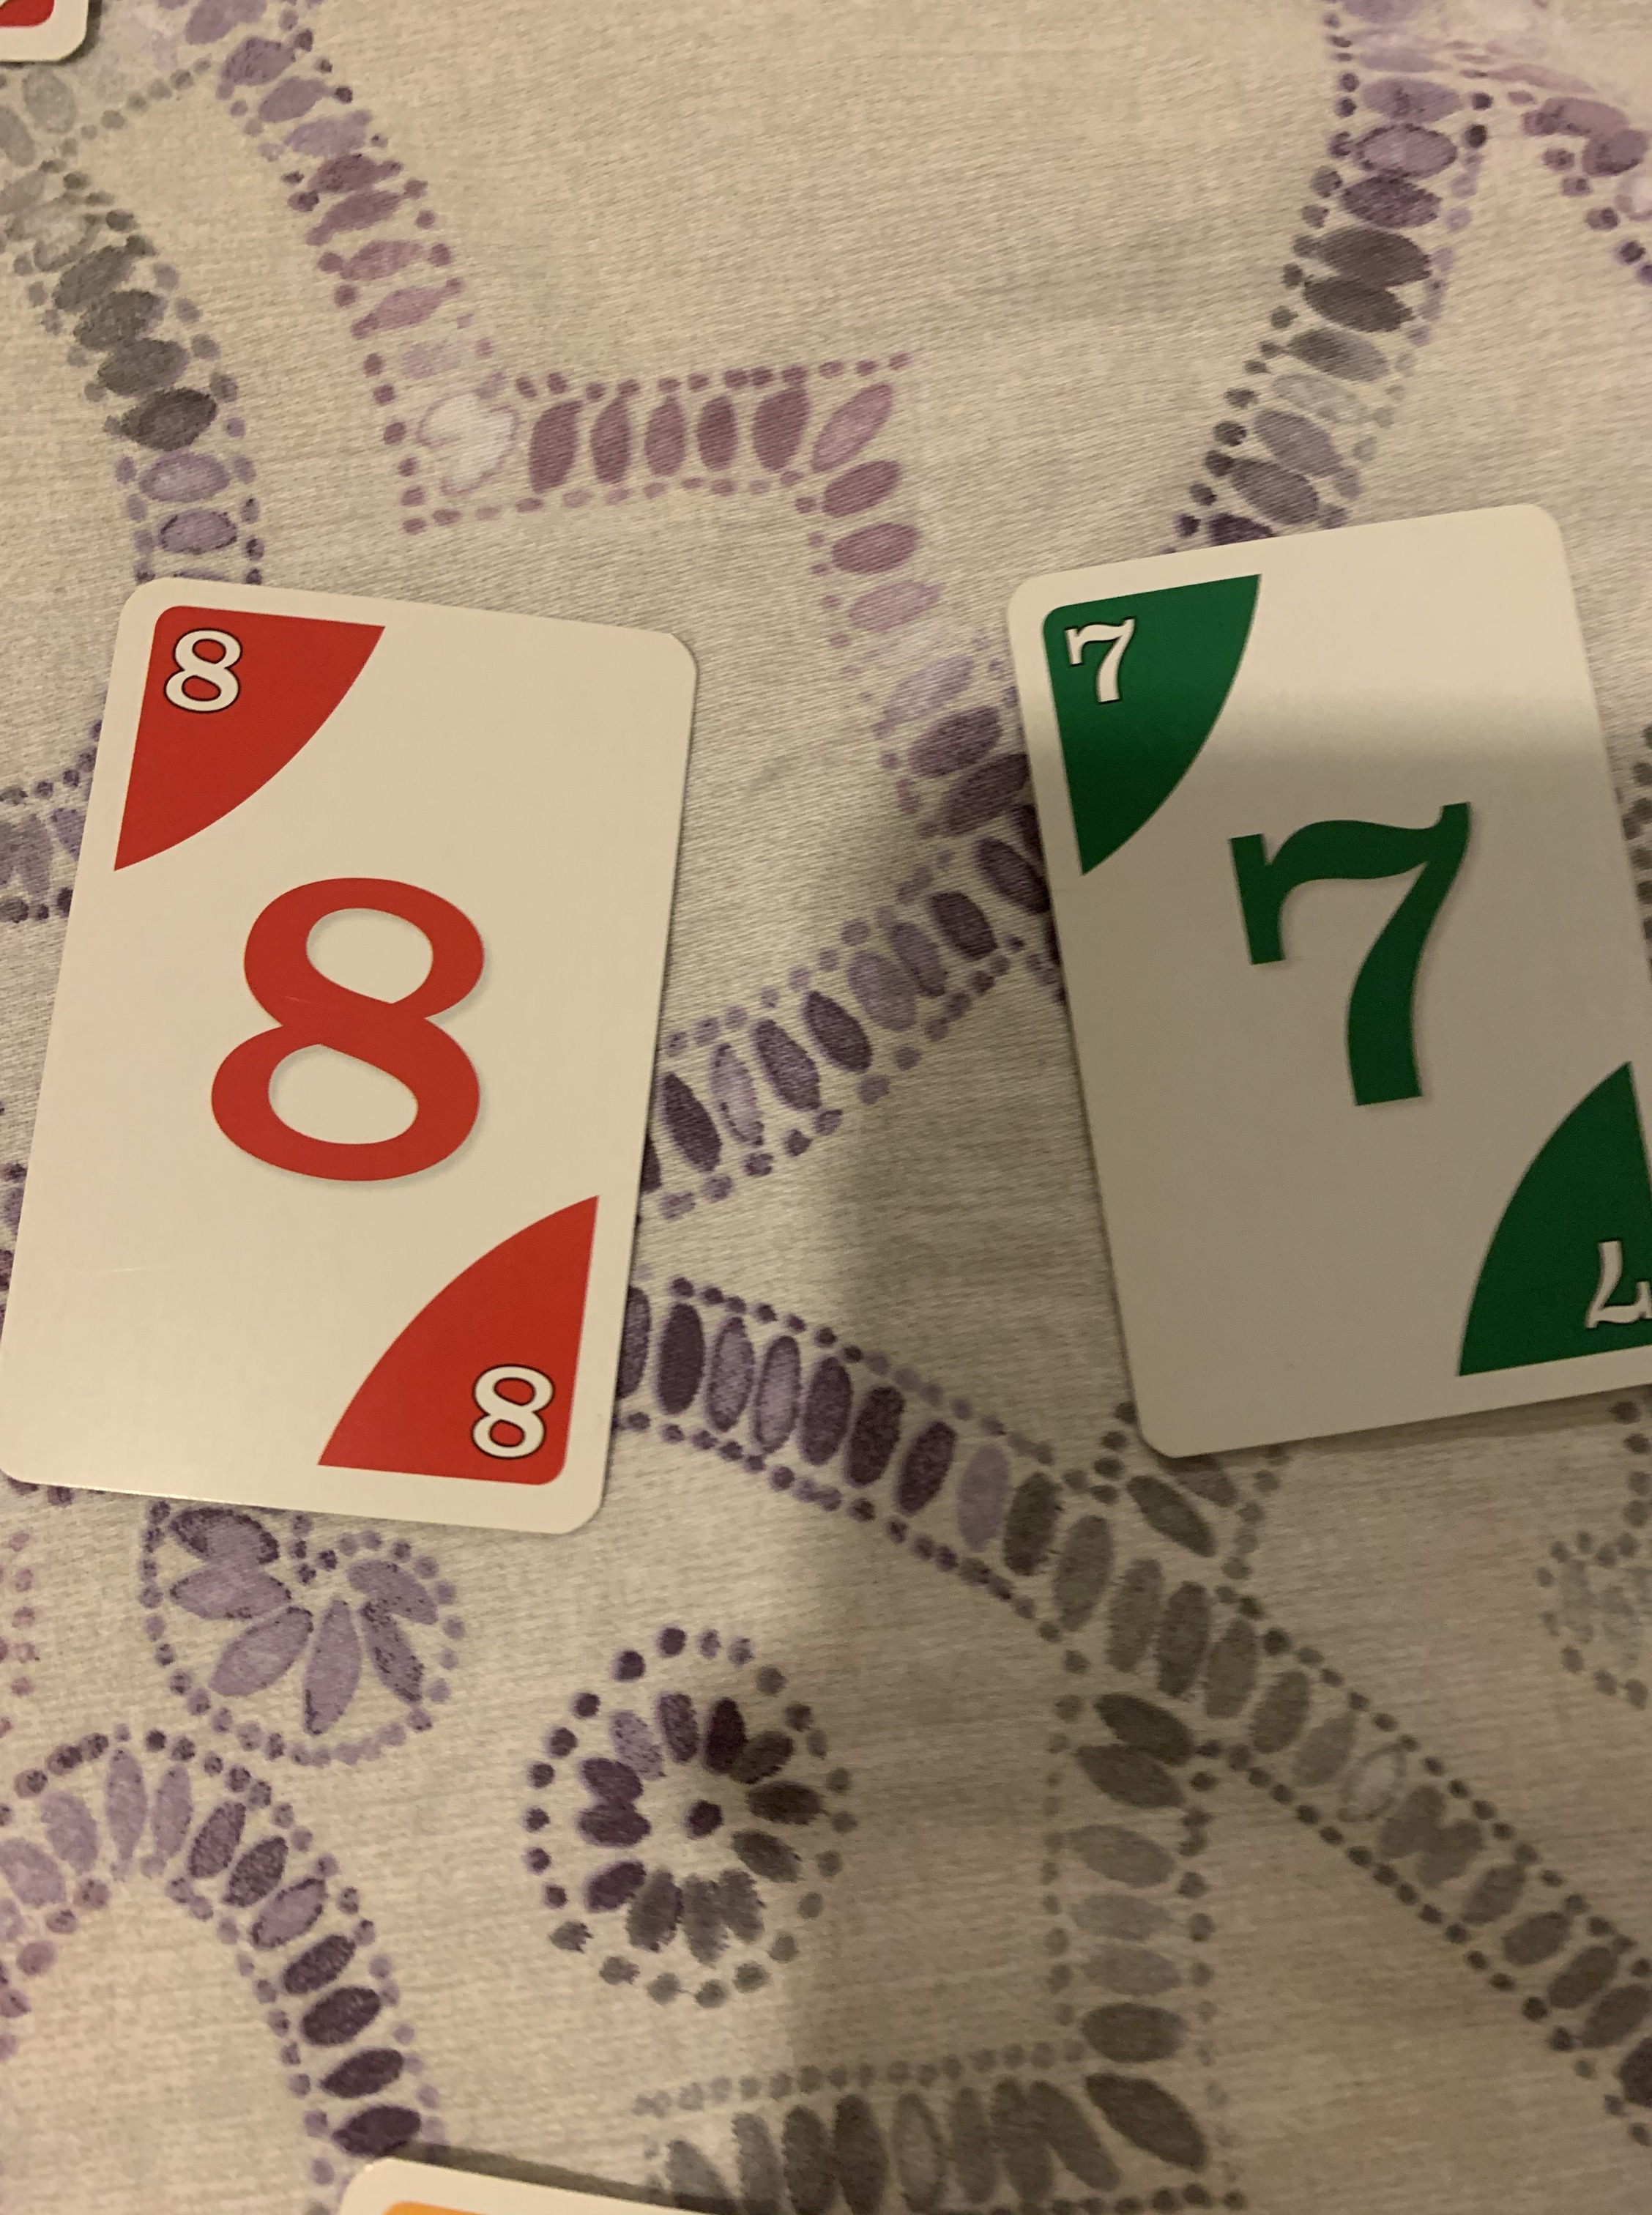eight: (0, 547, 706, 1540)
seven: (989, 498, 1652, 1470)
